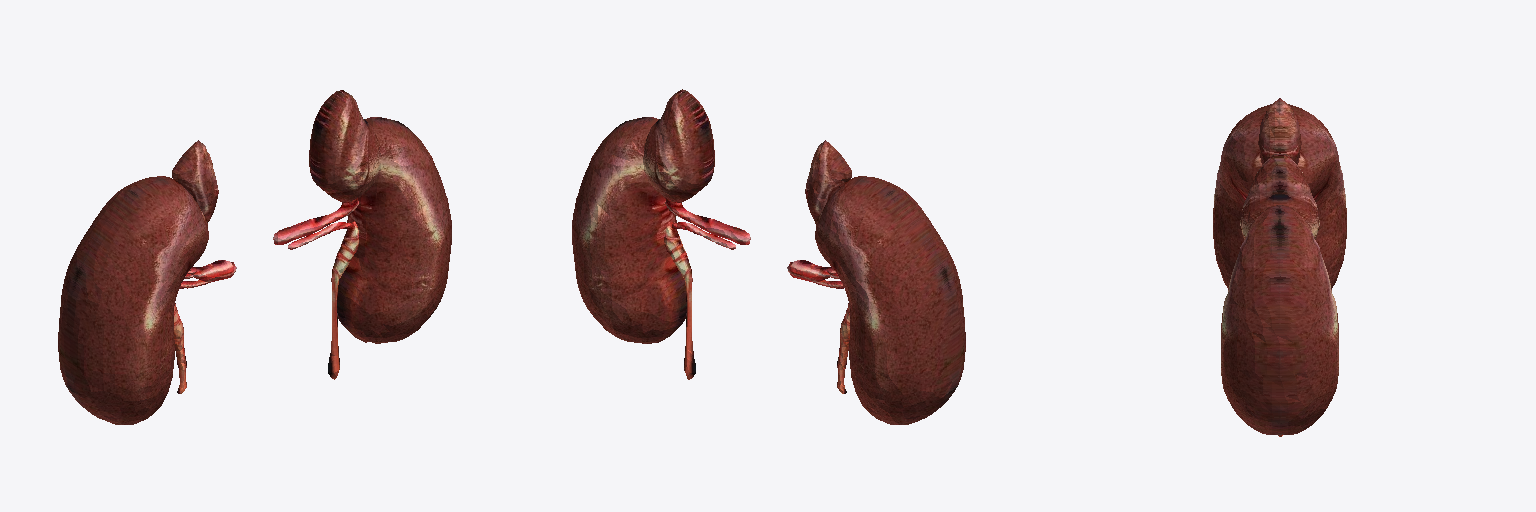
The picture shows the model from 3 angles: view 1: azimuth 30°, elevation 25°; view 2: azimuth 150°, elevation 25°; view 3: azimuth 270°, elevation 25°; orthographic projection.
Bounding box in the file's own units: 1.71 × 1.24 × 0.5266.
Materials: 1 (1 with a texture image).